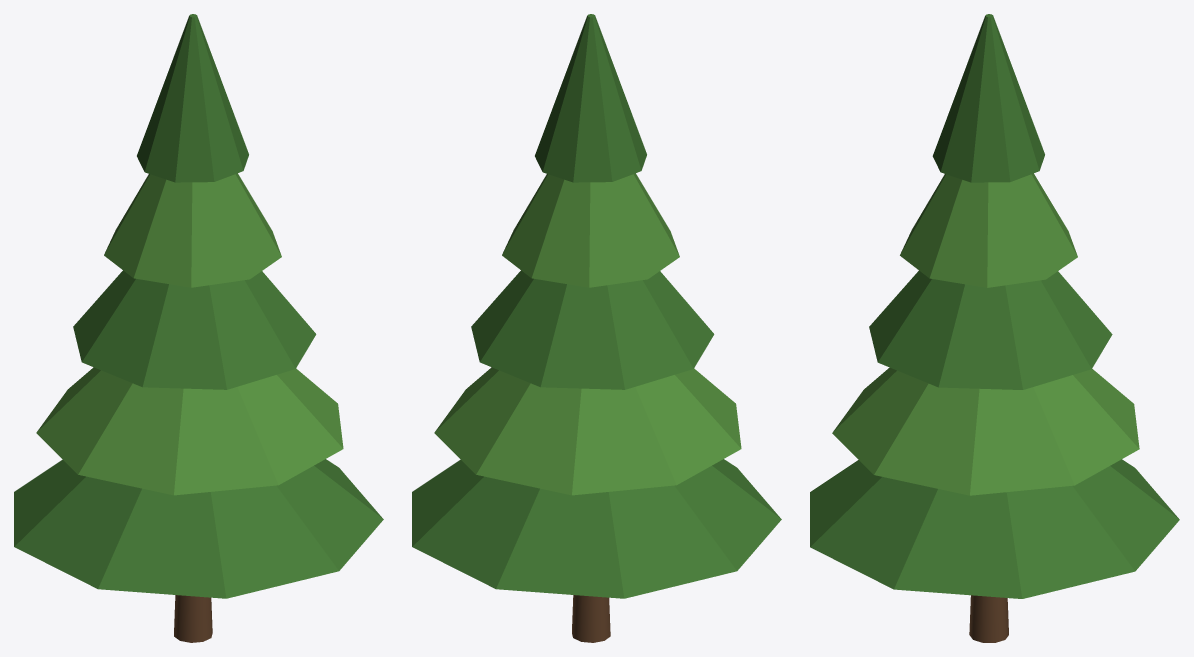
Rendered from Agac_Cam.fbx.
The picture shows the model from 3 angles, left to right: view 1: azimuth 30°, elevation 25°; view 2: azimuth 150°, elevation 25°; view 3: azimuth 270°, elevation 25°; orthographic projection.
Parts seen in each view (by area): view 1: Agac_Cam_Model; view 2: Agac_Cam_Model; view 3: Agac_Cam_Model.
Part boxes in pixels (x1=…): Agac_Cam_Model: x1=14, y1=14, x2=383, y2=642; Agac_Cam_Model: x1=412, y1=14, x2=781, y2=642; Agac_Cam_Model: x1=810, y1=14, x2=1179, y2=642.
Size of the model in its own units: 4.73 by 8.6 by 4.66.
